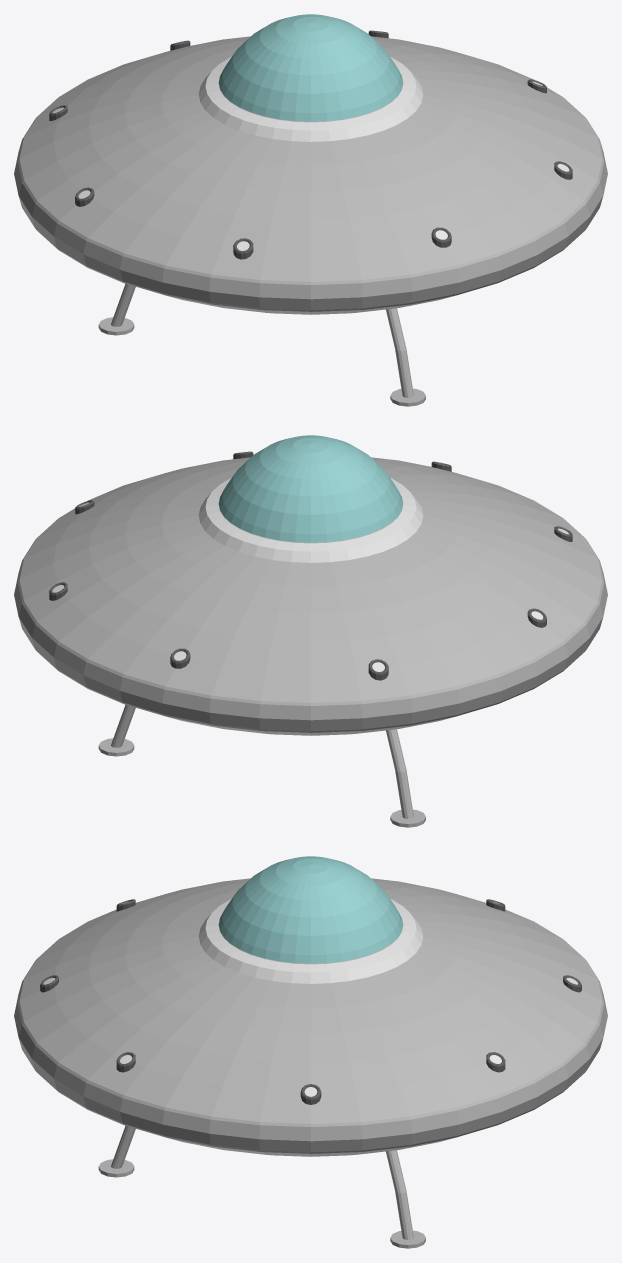
The model's file is ufo.dae.
3 views of the same model, one above another, from view 1: azimuth 30°, elevation 25°; view 2: azimuth 150°, elevation 25°; view 3: azimuth 270°, elevation 25° (orthographic).
Visible parts, largest first — view 1: UFO; view 2: UFO; view 3: UFO.
Part boxes in pixels (x1,y1,x2,y2): UFO: (14, 14, 607, 406); UFO: (14, 435, 607, 827); UFO: (14, 856, 607, 1248).
Size of the model in its own units: 0.313 by 0.1775 by 0.313.
Materials: 1 (1 with a texture image).
